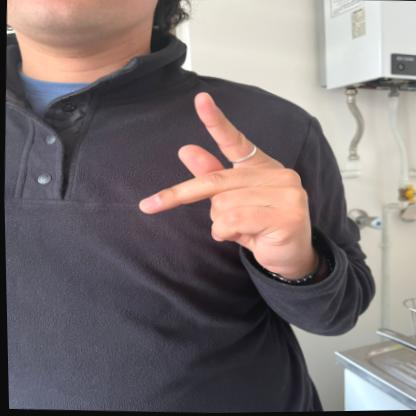K: (128, 85, 320, 284)
